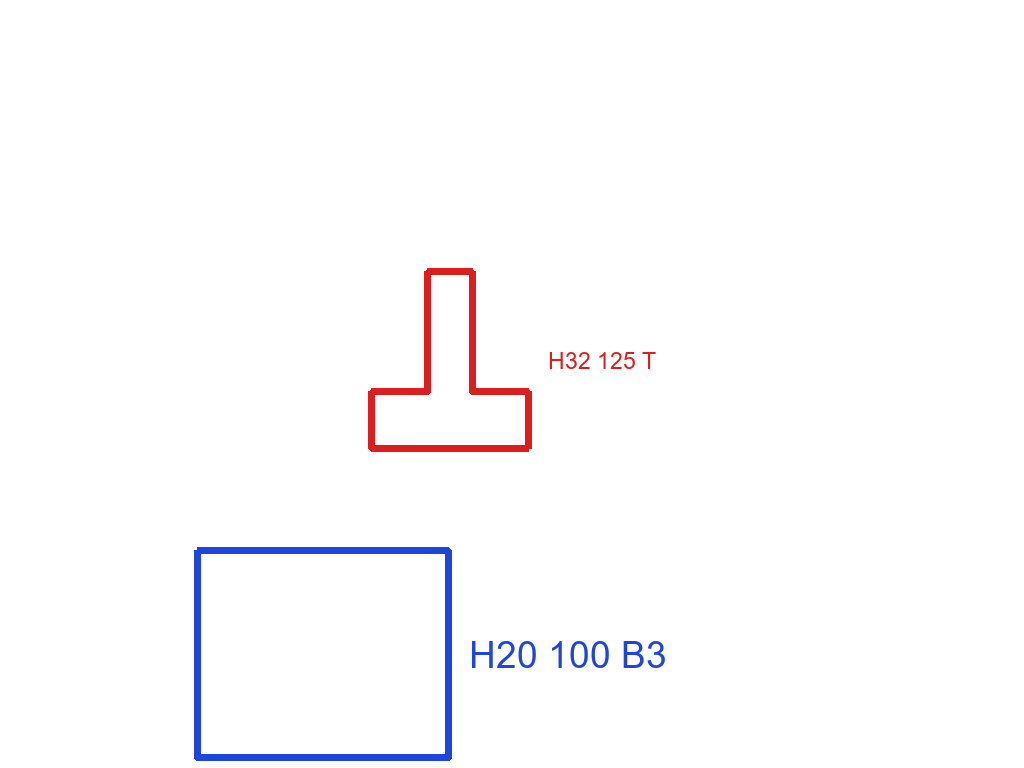shape: (192, 545, 454, 763), (366, 266, 534, 454)
text: (467, 639, 669, 670), (546, 350, 658, 371)
